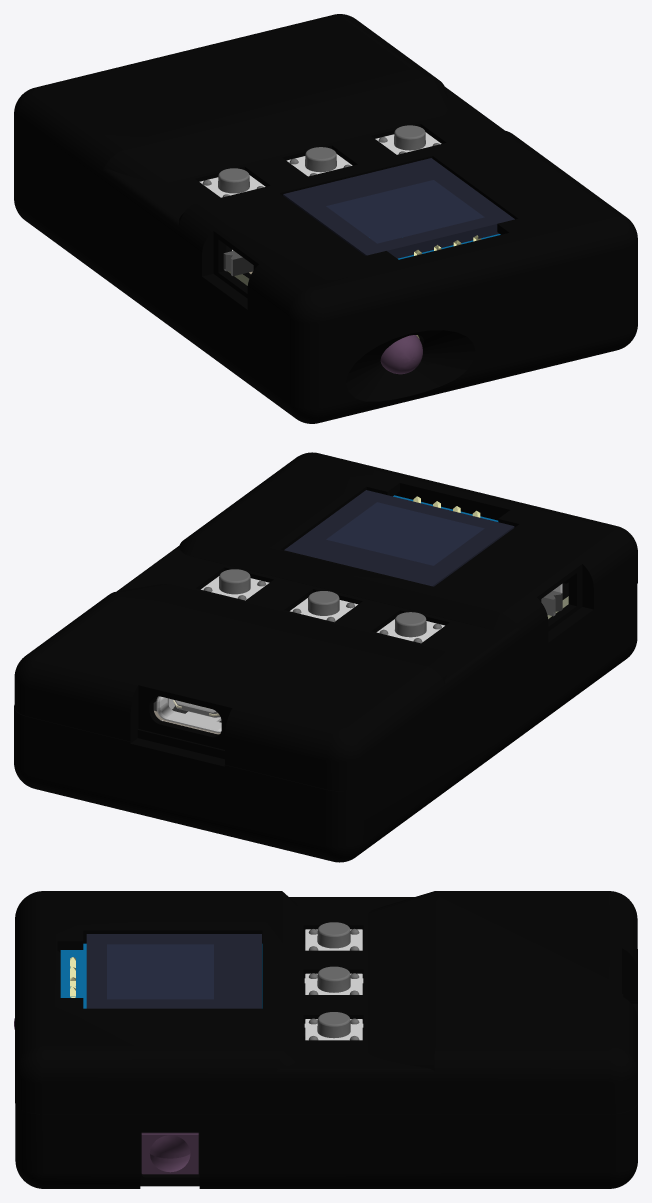
Rendered from Compressed Full BLEShark Nano Model.glb.
The picture shows the model from 3 angles, top to bottom: view 1: azimuth 30°, elevation 25°; view 2: azimuth 150°, elevation 25°; view 3: azimuth 270°, elevation 25°; orthographic projection. The views are drawn at different scales.
Parts seen in each view (by area): view 1: BLEShark-BASE, imagetostl_mesh1034, imagetostl_mesh9, imagetostl_mesh1701, imagetostl_mesh99; view 2: BLEShark-BASE, imagetostl_mesh1034, imagetostl_mesh9, imagetostl_mesh99, imagetostl_mesh623; view 3: BLEShark-BASE, imagetostl_mesh1034, imagetostl_mesh9, imagetostl_mesh1701, imagetostl_mesh99.
Boxes of the visible parts, x1=… form: BLEShark-BASE: x1=14, y1=14, x2=637, y2=423; imagetostl_mesh1034: x1=283, y1=158, x2=514, y2=259; imagetostl_mesh9: x1=202, y1=125, x2=439, y2=197; imagetostl_mesh1701: x1=380, y1=335, x2=422, y2=374; imagetostl_mesh99: x1=199, y1=132, x2=441, y2=197; BLEShark-BASE: x1=14, y1=452, x2=637, y2=862; imagetostl_mesh1034: x1=284, y1=490, x2=514, y2=586; imagetostl_mesh9: x1=203, y1=569, x2=441, y2=643; imagetostl_mesh99: x1=201, y1=576, x2=444, y2=642; imagetostl_mesh623: x1=156, y1=696, x2=221, y2=732; BLEShark-BASE: x1=15, y1=891, x2=637, y2=1188; imagetostl_mesh1034: x1=60, y1=934, x2=262, y2=1008; imagetostl_mesh9: x1=308, y1=922, x2=359, y2=1040; imagetostl_mesh1701: x1=14, y1=1018, x2=198, y2=1174; imagetostl_mesh99: x1=305, y1=929, x2=362, y2=1040.
Size of the model in its own units: 1.31 by 0.4944 by 1.96.
